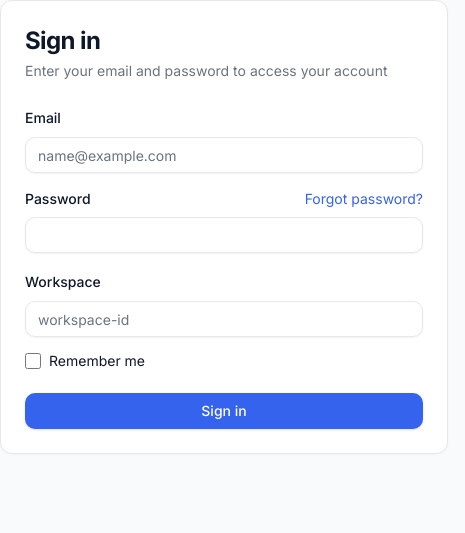
LoginForm › error handling › should display server error from login hook
In the field labelled "Email": (224, 155) x1=25 y1=137 x2=423 y2=173, type "test@example.com"
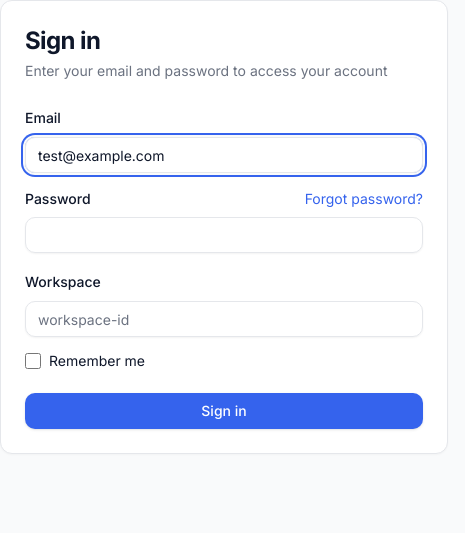
In the password field labelled "Password": (224, 235) x1=25 y1=217 x2=423 y2=253, type "wrongpassword"
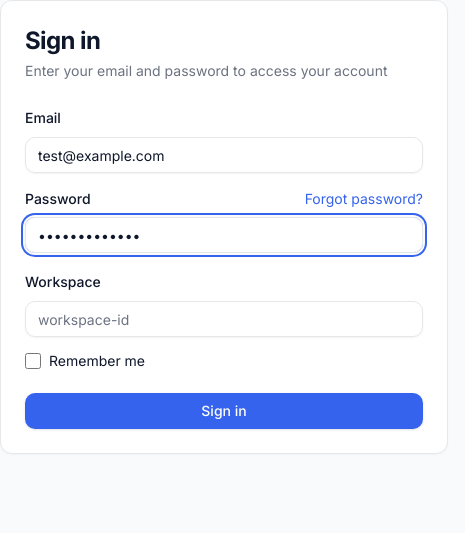
In the field labelled "Workspace": (224, 319) x1=25 y1=301 x2=423 y2=337, type "test-tenant"
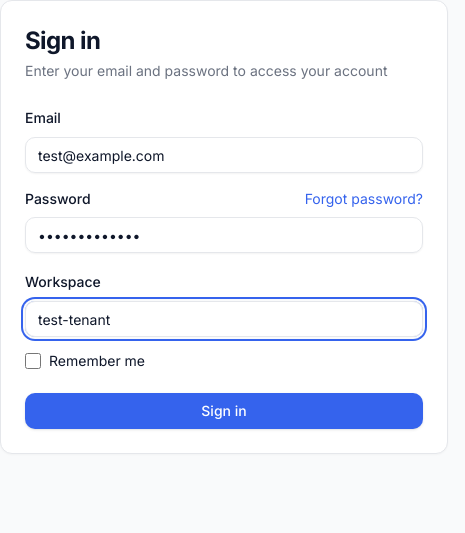
Click the button "Sign in": (224, 411) x1=25 y1=393 x2=423 y2=429
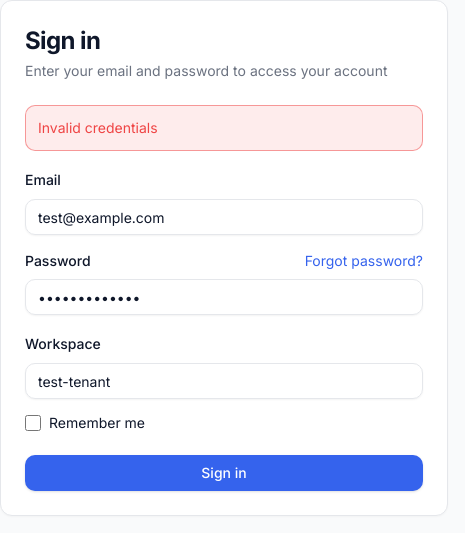
Expected: the text "Invalid credentials" is shown, x1=25 y1=105 x2=423 y2=151
